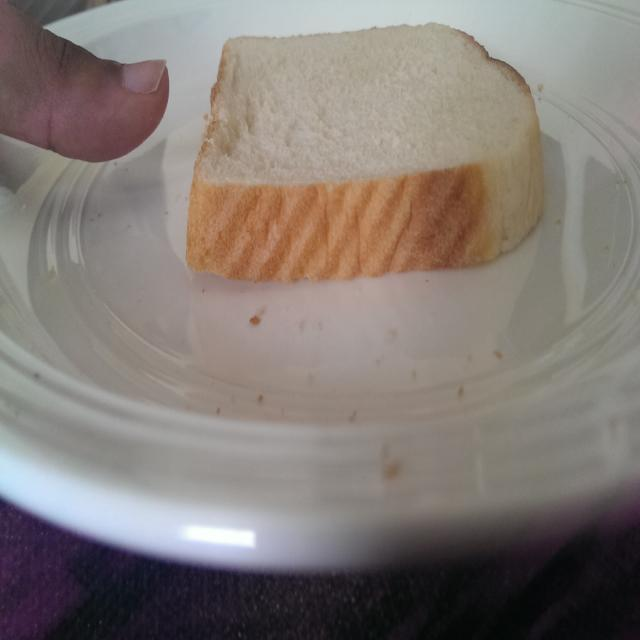Bread: (179, 17, 552, 295)
Finger: (34, 8, 174, 170)
